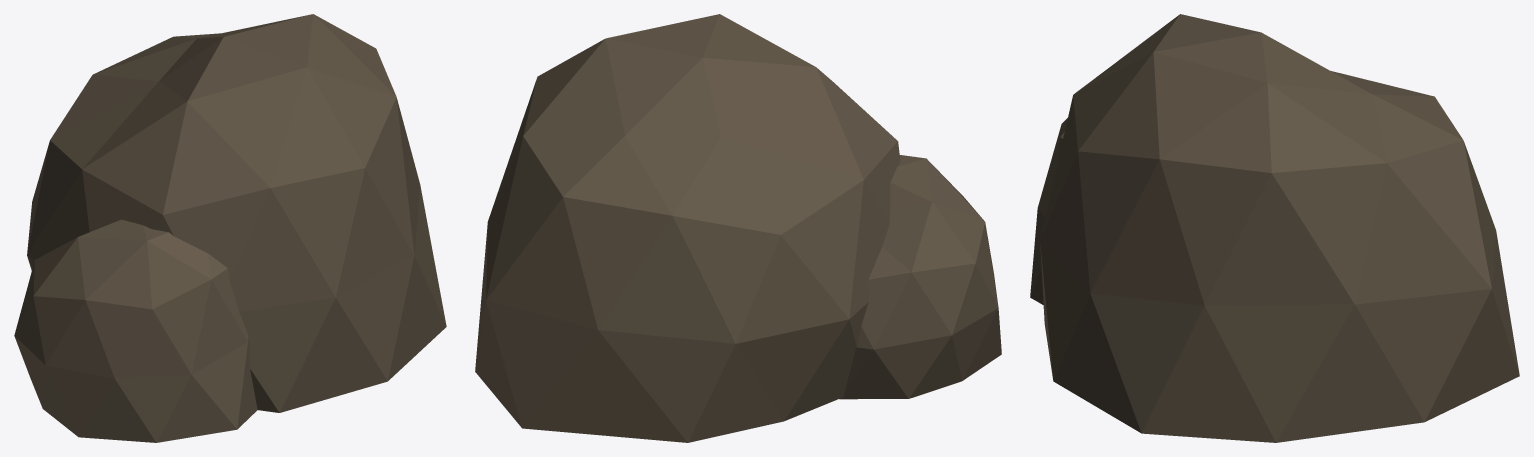
File: roca5.fbx
3 renders of one model, left to right at view 1: azimuth 30°, elevation 25°; view 2: azimuth 150°, elevation 25°; view 3: azimuth 270°, elevation 25°, orthographic. The views are drawn at different scales.
Visible parts, largest first — view 1: Icosphere.005, Icosphere.004; view 2: Icosphere.005, Icosphere.004; view 3: Icosphere.005, Icosphere.004.
Part boxes in pixels (<box>): Icosphere.005: <box>27,14,446,412</box>; Icosphere.004: <box>14,219,257,442</box>; Icosphere.005: <box>475,14,900,442</box>; Icosphere.004: <box>839,155,1001,399</box>; Icosphere.005: <box>1040,14,1519,442</box>; Icosphere.004: <box>1030,118,1067,304</box>.
Bounding box in the file's own units: 238 × 159 × 223.
